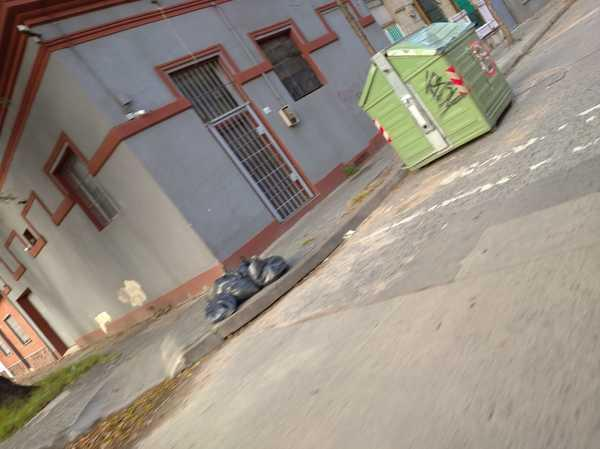Dechets: (205, 256, 290, 323), (337, 228, 361, 244)
Trash: (359, 22, 514, 169)
